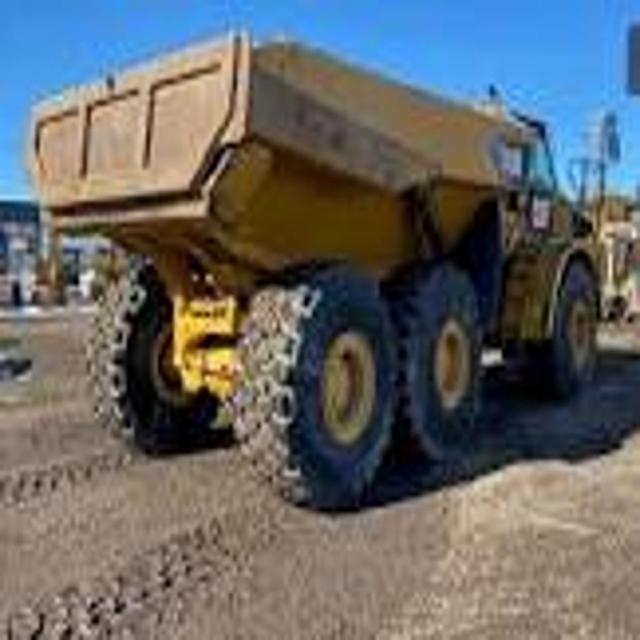dump_truck: (33, 29, 605, 518)
